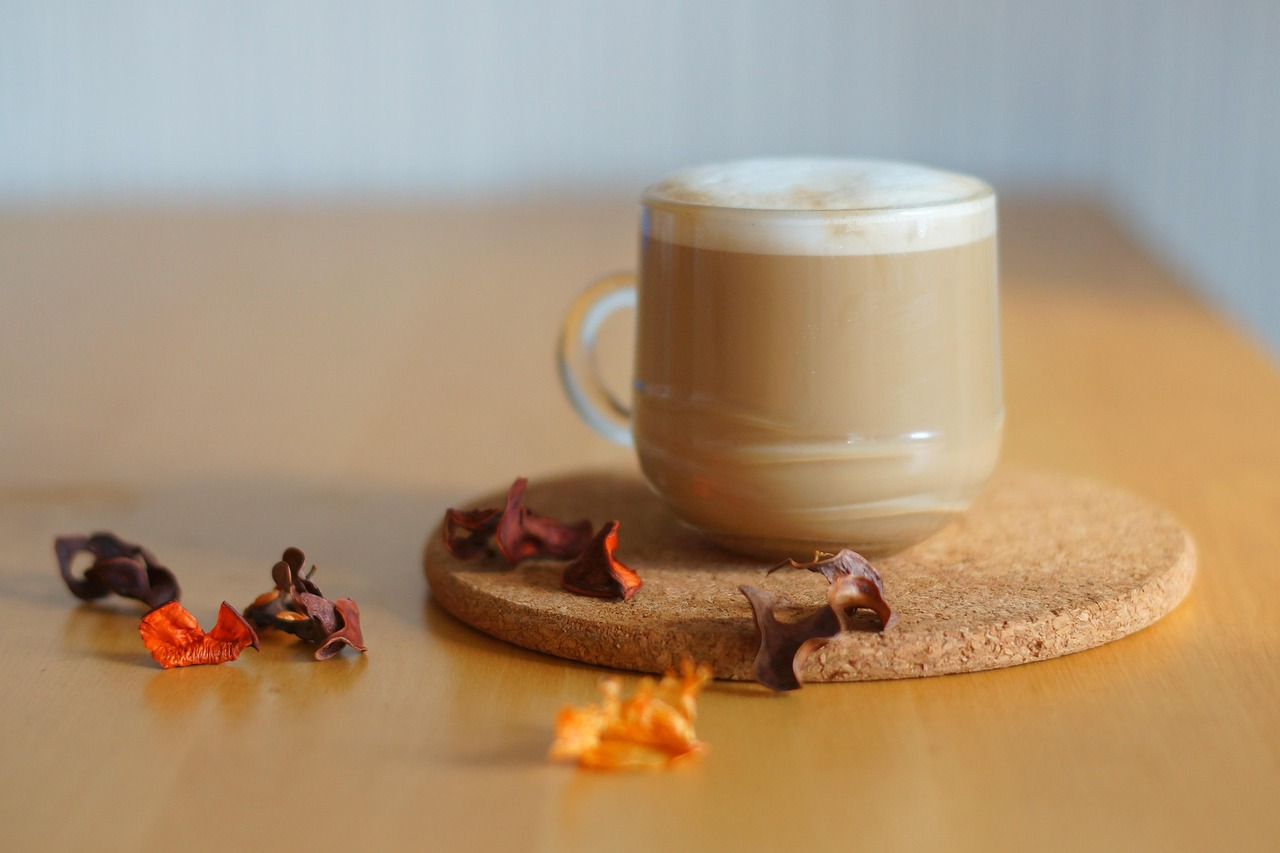mug: (523, 143, 1010, 561)
